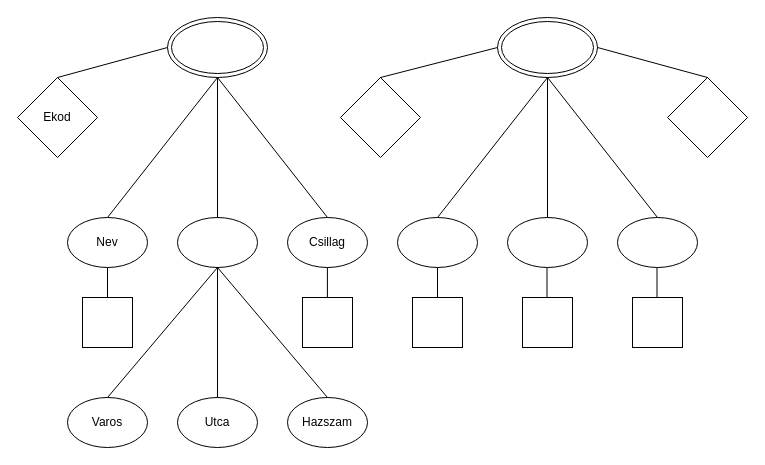
The diagram is 765 pixels wide and 465 high, and some of its shapes have lost their labels. Here are the shapes that lost their labels. From the top down, the box of each, then its label:
(166, 16, 268, 78): Etterem
(176, 216, 258, 268): Cim
